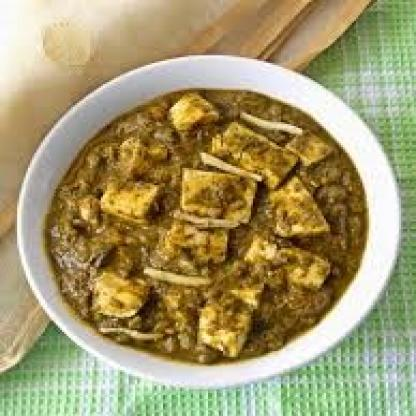palak_paneer: (44, 88, 367, 367)
